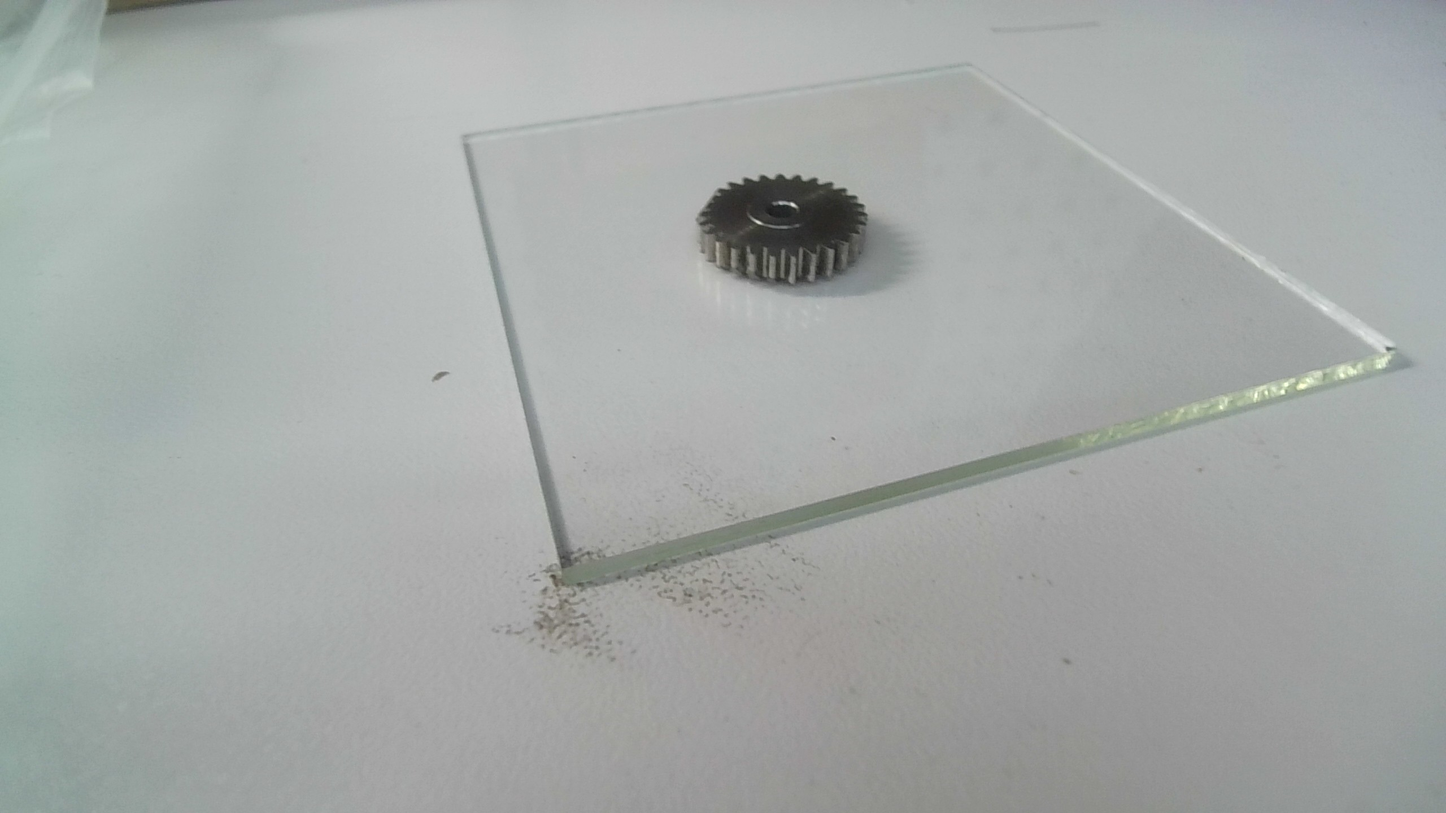gear: (692, 169, 870, 291)
